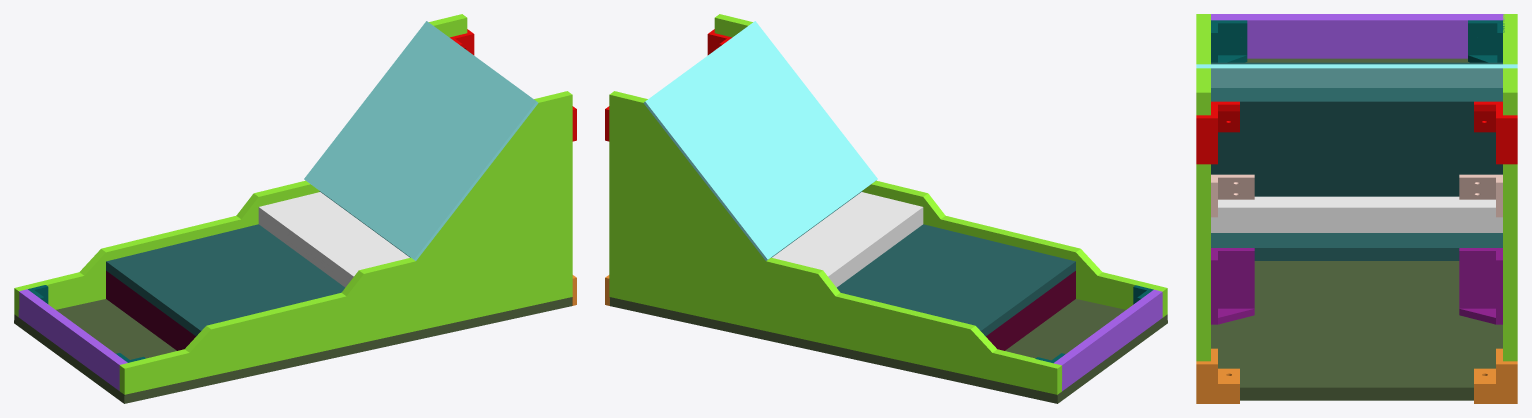
The model's file is faience_pusherv2_002.obj.
3 views of the same model, side by side, from view 1: azimuth 30°, elevation 25°; view 2: azimuth 150°, elevation 25°; view 3: azimuth 270°, elevation 25° (orthographic). The views are drawn at different scales.
Visible parts, largest first — view 1: Mesh3 Component_4_1 Model, Mesh6 Component_7_1 Model, Mesh1 Component_1_1 Model, Mesh4 Component_5_1 Model, Mesh13 Component_12_1 Model, Mesh8 Component_4_2 Model, Mesh7 Component_8_1 Model, Mesh5 Component_6_1 Model; view 2: Mesh8 Component_4_2 Model, Mesh6 Component_7_1 Model, Mesh1 Component_1_1 Model, Mesh4 Component_5_1 Model, Mesh13 Component_12_1 Model, Mesh3 Component_4_1 Model, Mesh7 Component_8_1 Model, Mesh5 Component_6_1 Model; view 3: Mesh4 Component_5_1 Model, Mesh2 Component_2_1 Model, Mesh7 Component_8_1 Model, Mesh13 Component_12_1 Model, Mesh1 Component_1_1 Model, Mesh6 Component_7_1 Model, Mesh3 Component_4_1 Model, Mesh8 Component_4_2 Model, Mesh17 Component_15_1 Model, Mesh21 Component_15_2 Model, Mesh9 Component_10_1 Model, Mesh11 Component_10_2 Model (+6 smaller).
Part boxes in pixels (left/top/right/bottom): Mesh3 Component_4_1 Model: left=119, top=91, right=572, bottom=394; Mesh6 Component_7_1 Model: left=304, top=21, right=538, bottom=260; Mesh1 Component_1_1 Model: left=106, top=224, right=344, bottom=336; Mesh4 Component_5_1 Model: left=14, top=297, right=572, bottom=403; Mesh13 Component_12_1 Model: left=258, top=192, right=409, bottom=287; Mesh8 Component_4_2 Model: left=14, top=14, right=467, bottom=316; Mesh7 Component_8_1 Model: left=18, top=289, right=127, bottom=390; Mesh5 Component_6_1 Model: left=106, top=271, right=195, bottom=350; Mesh8 Component_4_2 Model: left=609, top=91, right=1062, bottom=394; Mesh6 Component_7_1 Model: left=643, top=21, right=877, bottom=260; Mesh1 Component_1_1 Model: left=837, top=224, right=1075, bottom=336; Mesh4 Component_5_1 Model: left=609, top=297, right=1167, bottom=403; Mesh13 Component_12_1 Model: left=772, top=192, right=923, bottom=287; Mesh3 Component_4_1 Model: left=714, top=14, right=1167, bottom=317; Mesh7 Component_8_1 Model: left=1054, top=289, right=1162, bottom=391; Mesh5 Component_6_1 Model: left=986, top=271, right=1075, bottom=350; Mesh4 Component_5_1 Model: left=1211, top=58, right=1502, bottom=400; Mesh2 Component_2_1 Model: left=1211, top=88, right=1502, bottom=196; Mesh7 Component_8_1 Model: left=1211, top=14, right=1504, bottom=58; Mesh13 Component_12_1 Model: left=1211, top=196, right=1502, bottom=232; Mesh1 Component_1_1 Model: left=1211, top=62, right=1502, bottom=260; Mesh6 Component_7_1 Model: left=1196, top=64, right=1517, bottom=87; Mesh3 Component_4_1 Model: left=1196, top=14, right=1210, bottom=361; Mesh8 Component_4_2 Model: left=1503, top=14, right=1517, bottom=361; Mesh17 Component_15_1 Model: left=1211, top=248, right=1254, bottom=324; Mesh21 Component_15_2 Model: left=1459, top=248, right=1502, bottom=324; Mesh9 Component_10_1 Model: left=1196, top=101, right=1239, bottom=164; Mesh11 Component_10_2 Model: left=1474, top=101, right=1517, bottom=164.
Bounding box in the file's own units: 522 × 235 × 220.
